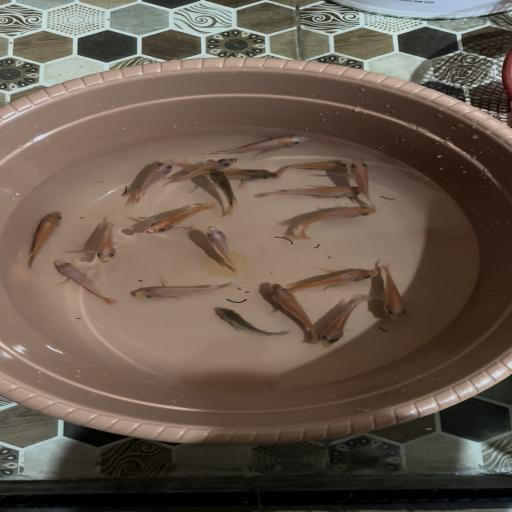nila: (266, 278, 322, 348), (283, 204, 382, 242), (47, 258, 121, 308), (312, 295, 376, 349), (128, 276, 247, 304), (18, 206, 68, 271), (215, 303, 295, 342), (198, 131, 314, 157), (284, 264, 380, 294), (143, 200, 220, 237), (159, 155, 236, 189), (373, 262, 415, 324), (172, 160, 280, 184), (123, 158, 175, 206), (196, 222, 243, 272), (258, 183, 366, 201), (207, 164, 242, 216), (347, 156, 381, 206), (273, 158, 349, 179), (91, 218, 124, 264)
